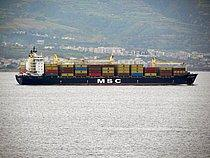Ship: (13, 46, 204, 93)
